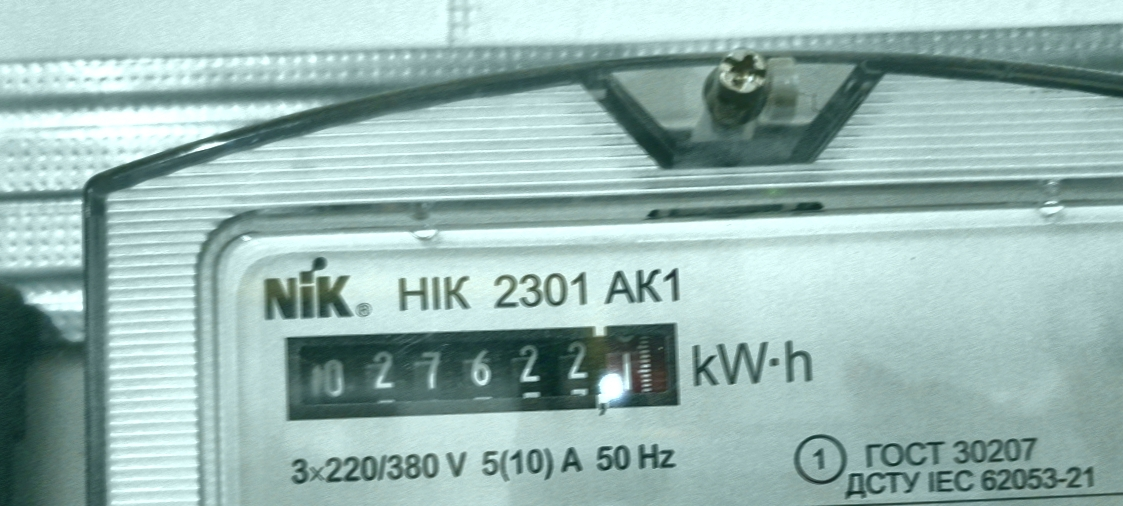0: (321, 355, 346, 398)
1: (618, 349, 635, 392)
2: (516, 342, 541, 384), (371, 348, 395, 391), (565, 338, 589, 380)
6: (469, 346, 492, 387)
7: (419, 349, 443, 392)
screen: (272, 312, 692, 427)
